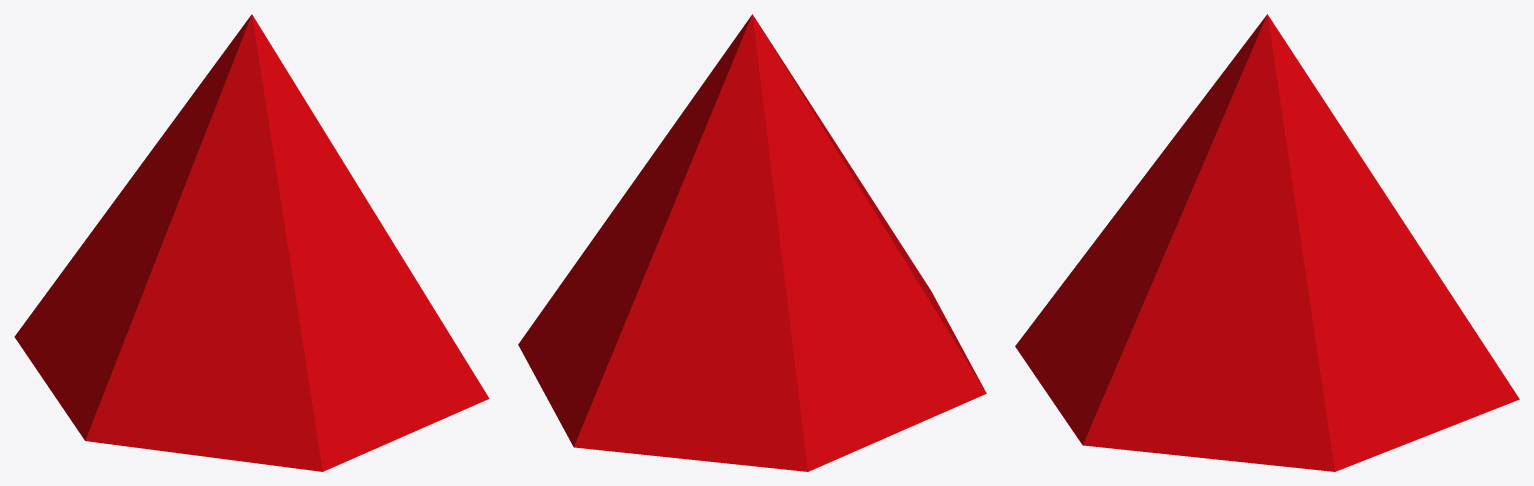
Rendered from obstical1.glb.
3 views of the same model, side by side, from view 1: azimuth 30°, elevation 25°; view 2: azimuth 150°, elevation 25°; view 3: azimuth 270°, elevation 25° (orthographic).
Visible parts, largest first — view 1: Mesh_Mesh_head_geo.001_lambert2SG.001; view 2: Mesh_Mesh_head_geo.001_lambert2SG.001; view 3: Mesh_Mesh_head_geo.001_lambert2SG.001.
Boxes of the visible parts, x1,y1,x2,y2 form: Mesh_Mesh_head_geo.001_lambert2SG.001: (14,14,489,471); Mesh_Mesh_head_geo.001_lambert2SG.001: (518,14,986,471); Mesh_Mesh_head_geo.001_lambert2SG.001: (1015,14,1519,471).
Size of the model in its own units: 35.52 by 30 by 38.25.
